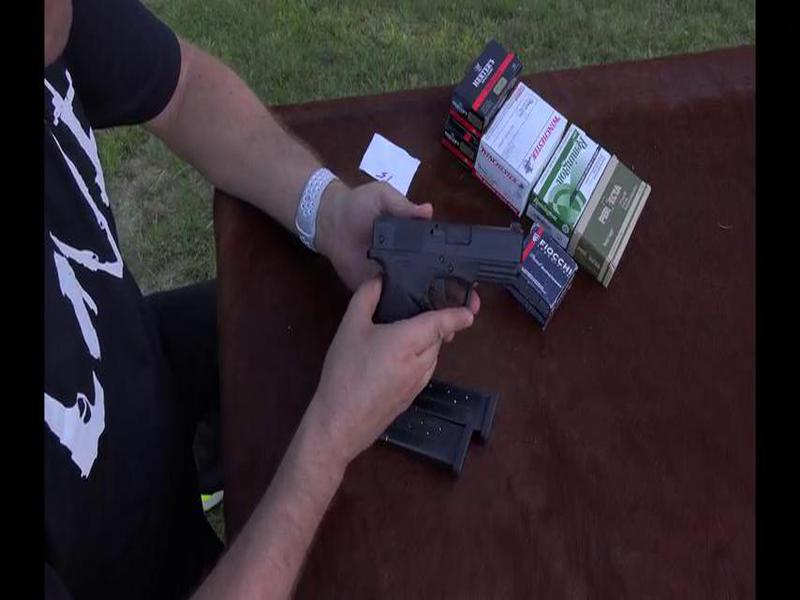Pistola: (355, 194, 549, 344)
